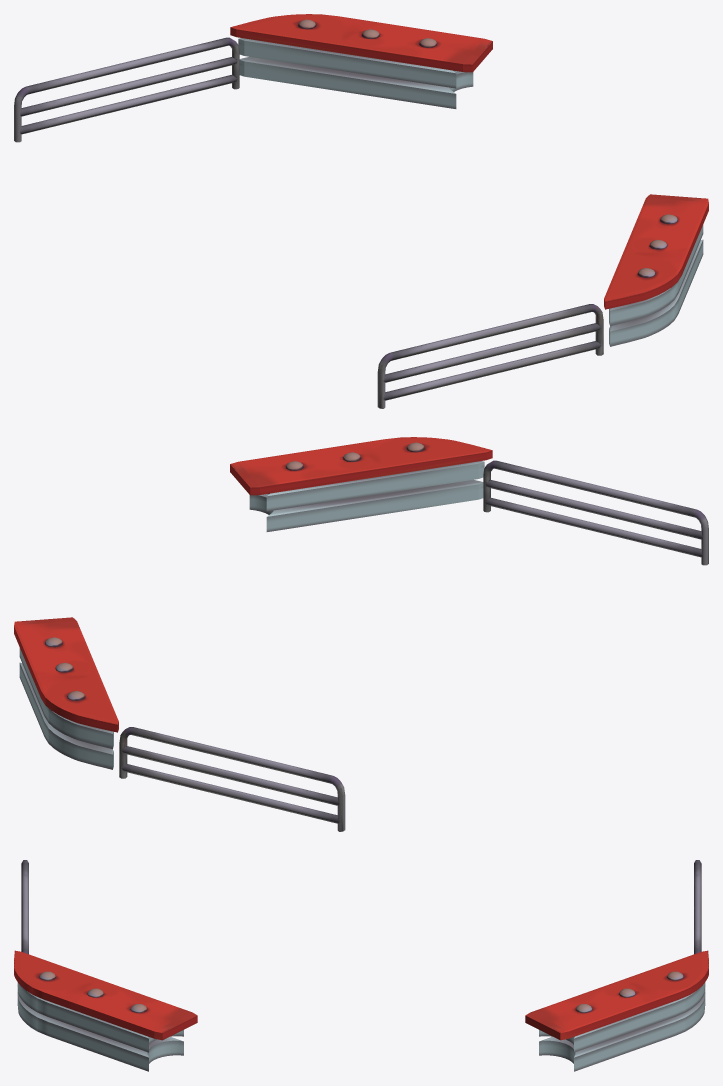
File: intWall1.obj
The picture shows the model from 3 angles, top to bottom: view 1: azimuth 30°, elevation 25°; view 2: azimuth 150°, elevation 25°; view 3: azimuth 270°, elevation 25°; orthographic projection. The views are drawn at different scales.
Parts seen in each view (by area): view 1: Cube.013_Cube.035; view 2: Cube.013_Cube.035; view 3: Cube.013_Cube.035.
Boxes of the visible parts, x1,y1,x2,y2 form: Cube.013_Cube.035: (14, 14, 708, 408); Cube.013_Cube.035: (14, 437, 708, 831); Cube.013_Cube.035: (14, 860, 708, 1071).
Size of the model in its own units: 19.81 by 2.9 by 31.95.
